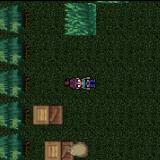Hide: (32, 98, 69, 130)
Obstacle: (31, 130, 96, 160), (0, 2, 32, 34), (0, 35, 31, 67), (0, 67, 31, 99), (0, 99, 31, 131), (0, 130, 32, 160)
Slow: (65, 2, 97, 35)
Victim: (62, 68, 102, 96)
